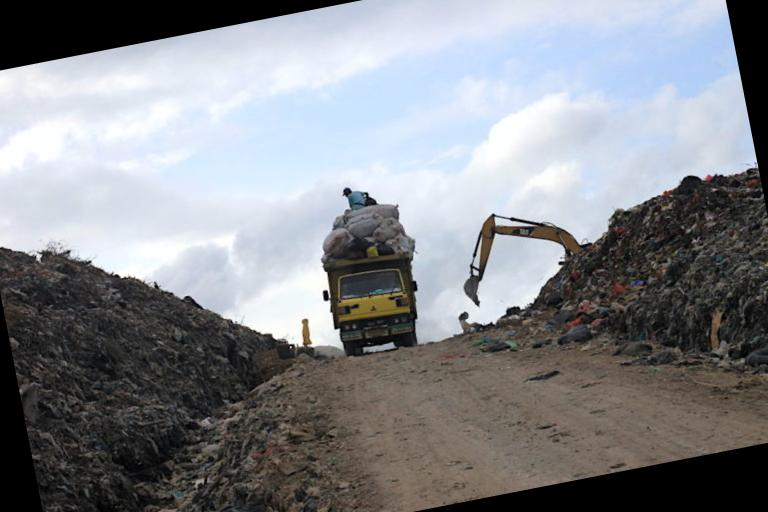road: (321, 337, 768, 512)
sky: (0, 0, 756, 345)
trash: (528, 167, 768, 355)
